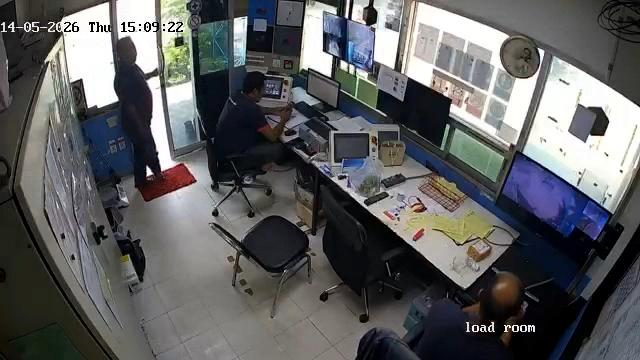Head: (477, 271, 527, 328), (241, 71, 266, 103), (116, 35, 139, 67)
People: (415, 270, 528, 360), (113, 34, 168, 188), (221, 71, 289, 174)
Phone: (284, 101, 297, 112)
